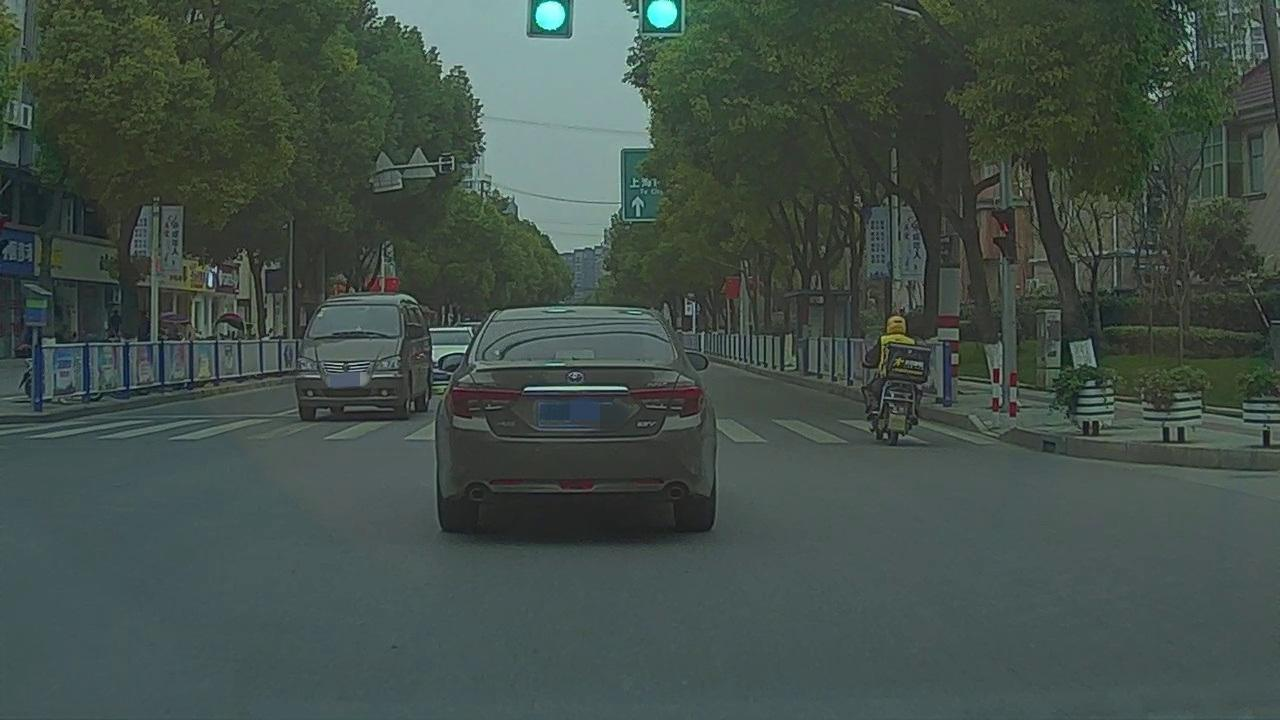traffic_light: (532, 1, 569, 37), (644, 2, 684, 35)
